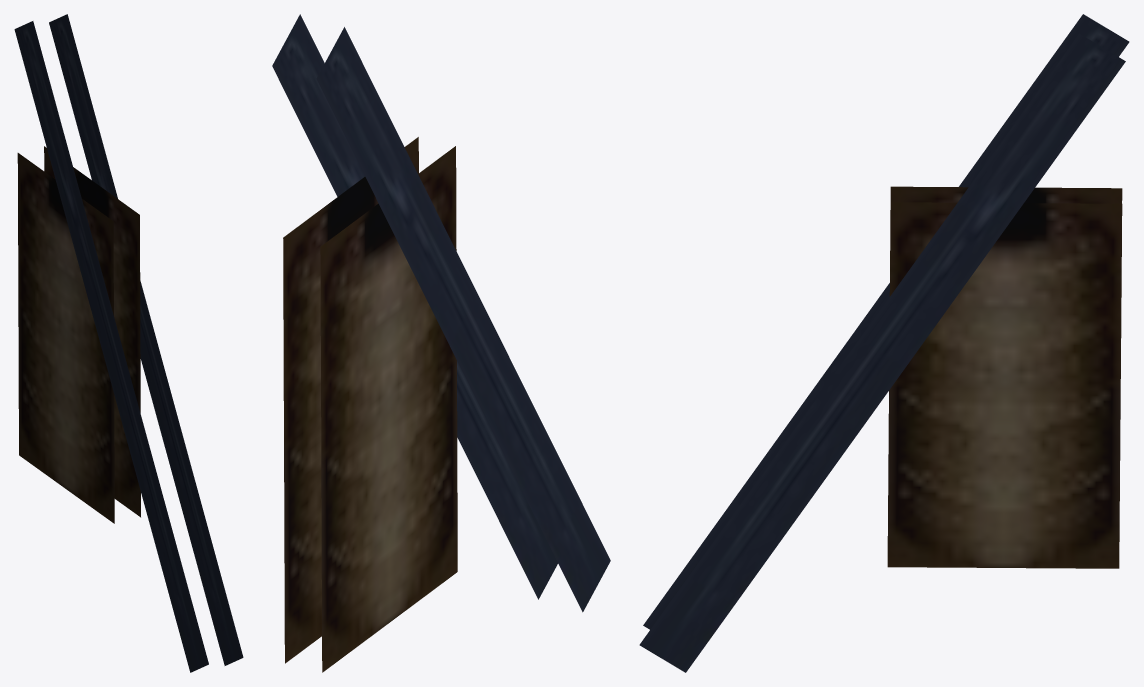
The model's file is sign1_spanish_b_icon_tailor.fbx.
3 views of the same model, side by side, from view 1: azimuth 30°, elevation 25°; view 2: azimuth 150°, elevation 25°; view 3: azimuth 270°, elevation 25° (orthographic). The views are drawn at different scales.
Visible parts, largest first — view 1: icon_thread, icon_needle; view 2: icon_thread, icon_needle; view 3: icon_thread, icon_needle.
Part boxes in pixels (left/top/right/bottom): icon_thread: left=17, top=146, right=140, bottom=523; icon_needle: left=14, top=14, right=243, bottom=672; icon_thread: left=283, top=137, right=457, bottom=672; icon_needle: left=272, top=14, right=610, bottom=612; icon_thread: left=887, top=186, right=1122, bottom=568; icon_needle: left=639, top=14, right=1129, bottom=672.
Bounding box in the file's own units: 25 × 322 × 222.
1 material, 1 textured.
